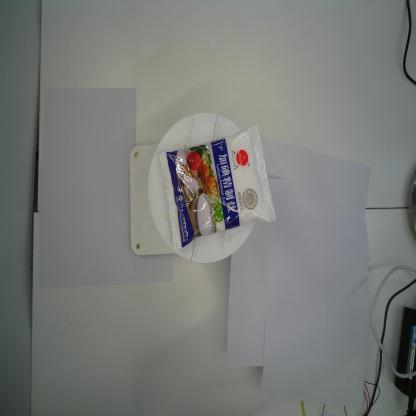Seasoner: (159, 123, 277, 251)
